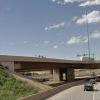Bridge: (5, 44, 95, 78)
